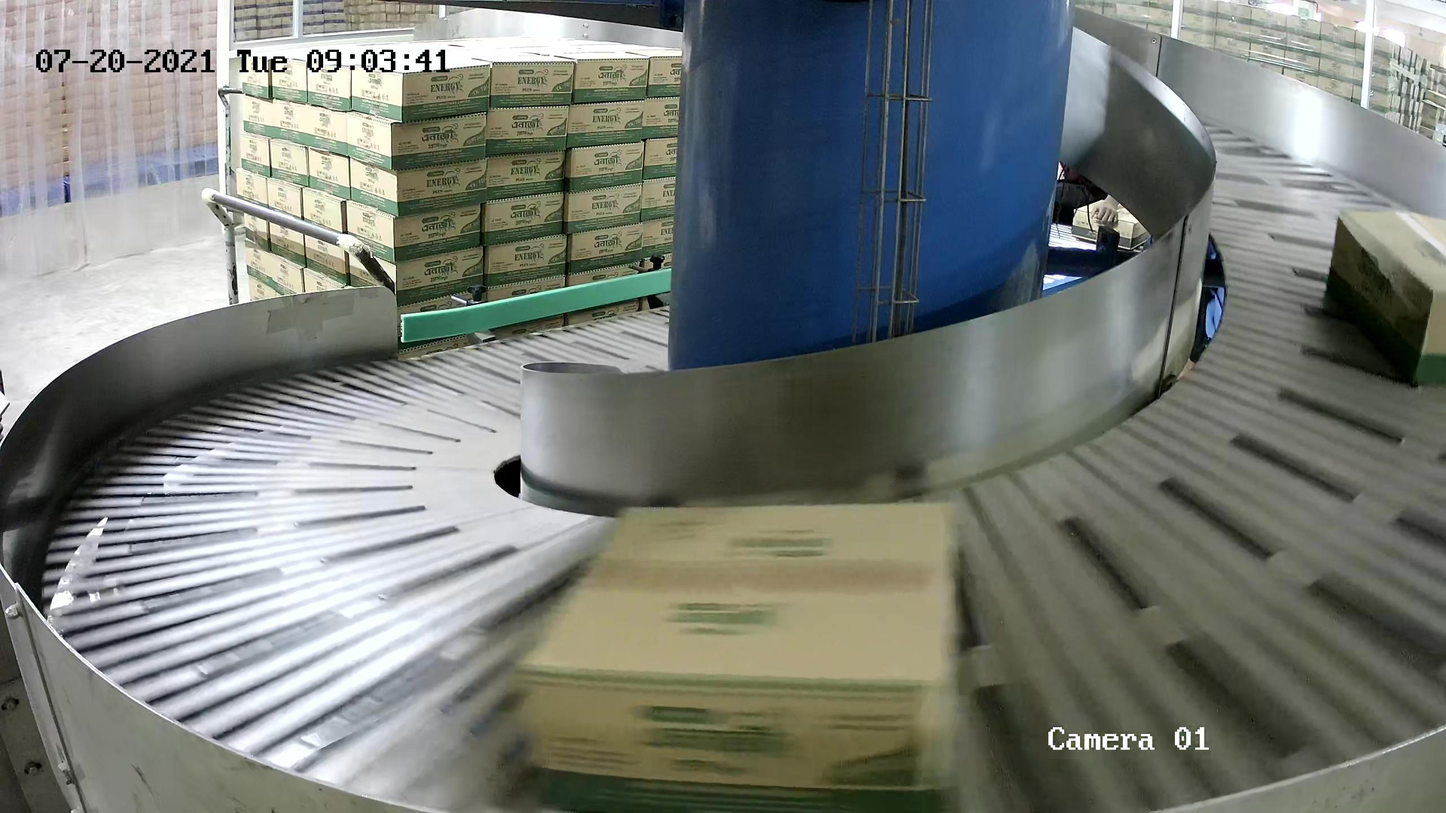Box: (516, 499, 961, 813), (1324, 208, 1446, 391)
